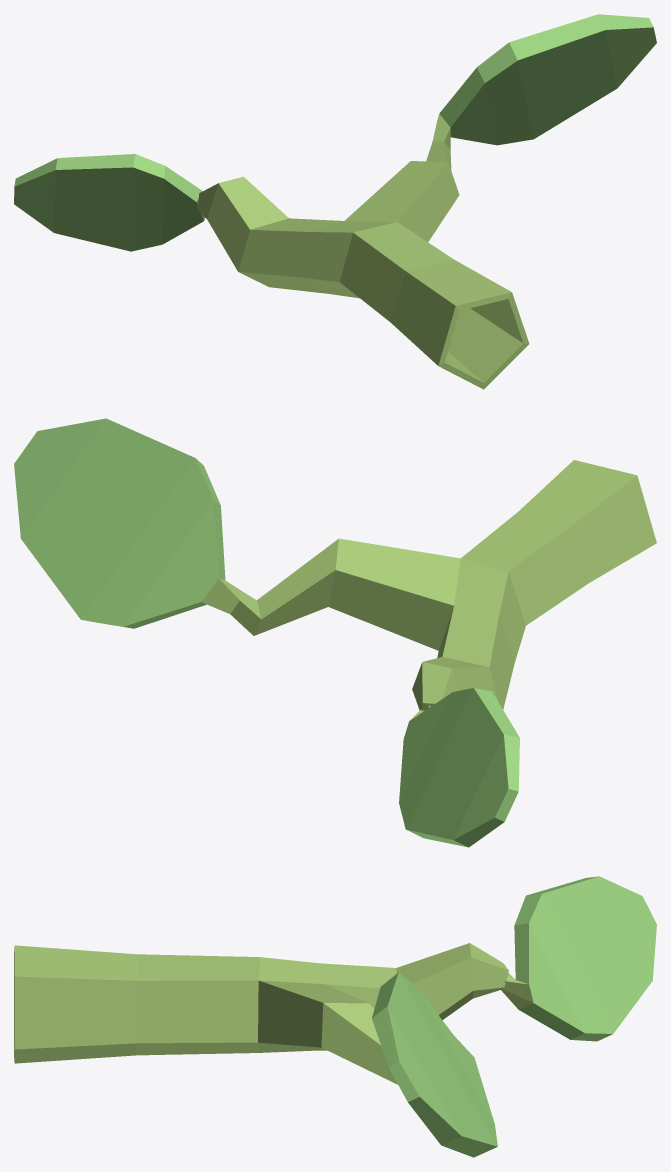
File: sprout.fbx
3 renders of one model, top to bottom at view 1: azimuth 30°, elevation 25°; view 2: azimuth 150°, elevation 25°; view 3: azimuth 270°, elevation 25°, orthographic. The views are drawn at different scales.
Visible parts, largest first — view 1: Circle; view 2: Circle; view 3: Circle.
Part boxes in pixels (x1=…): Circle: x1=14, y1=14, x2=656, y2=389; Circle: x1=14, y1=418, x2=656, y2=847; Circle: x1=14, y1=876, x2=656, y2=1157.
Size of the model in its own units: 51.25 by 19.28 by 46.41.
